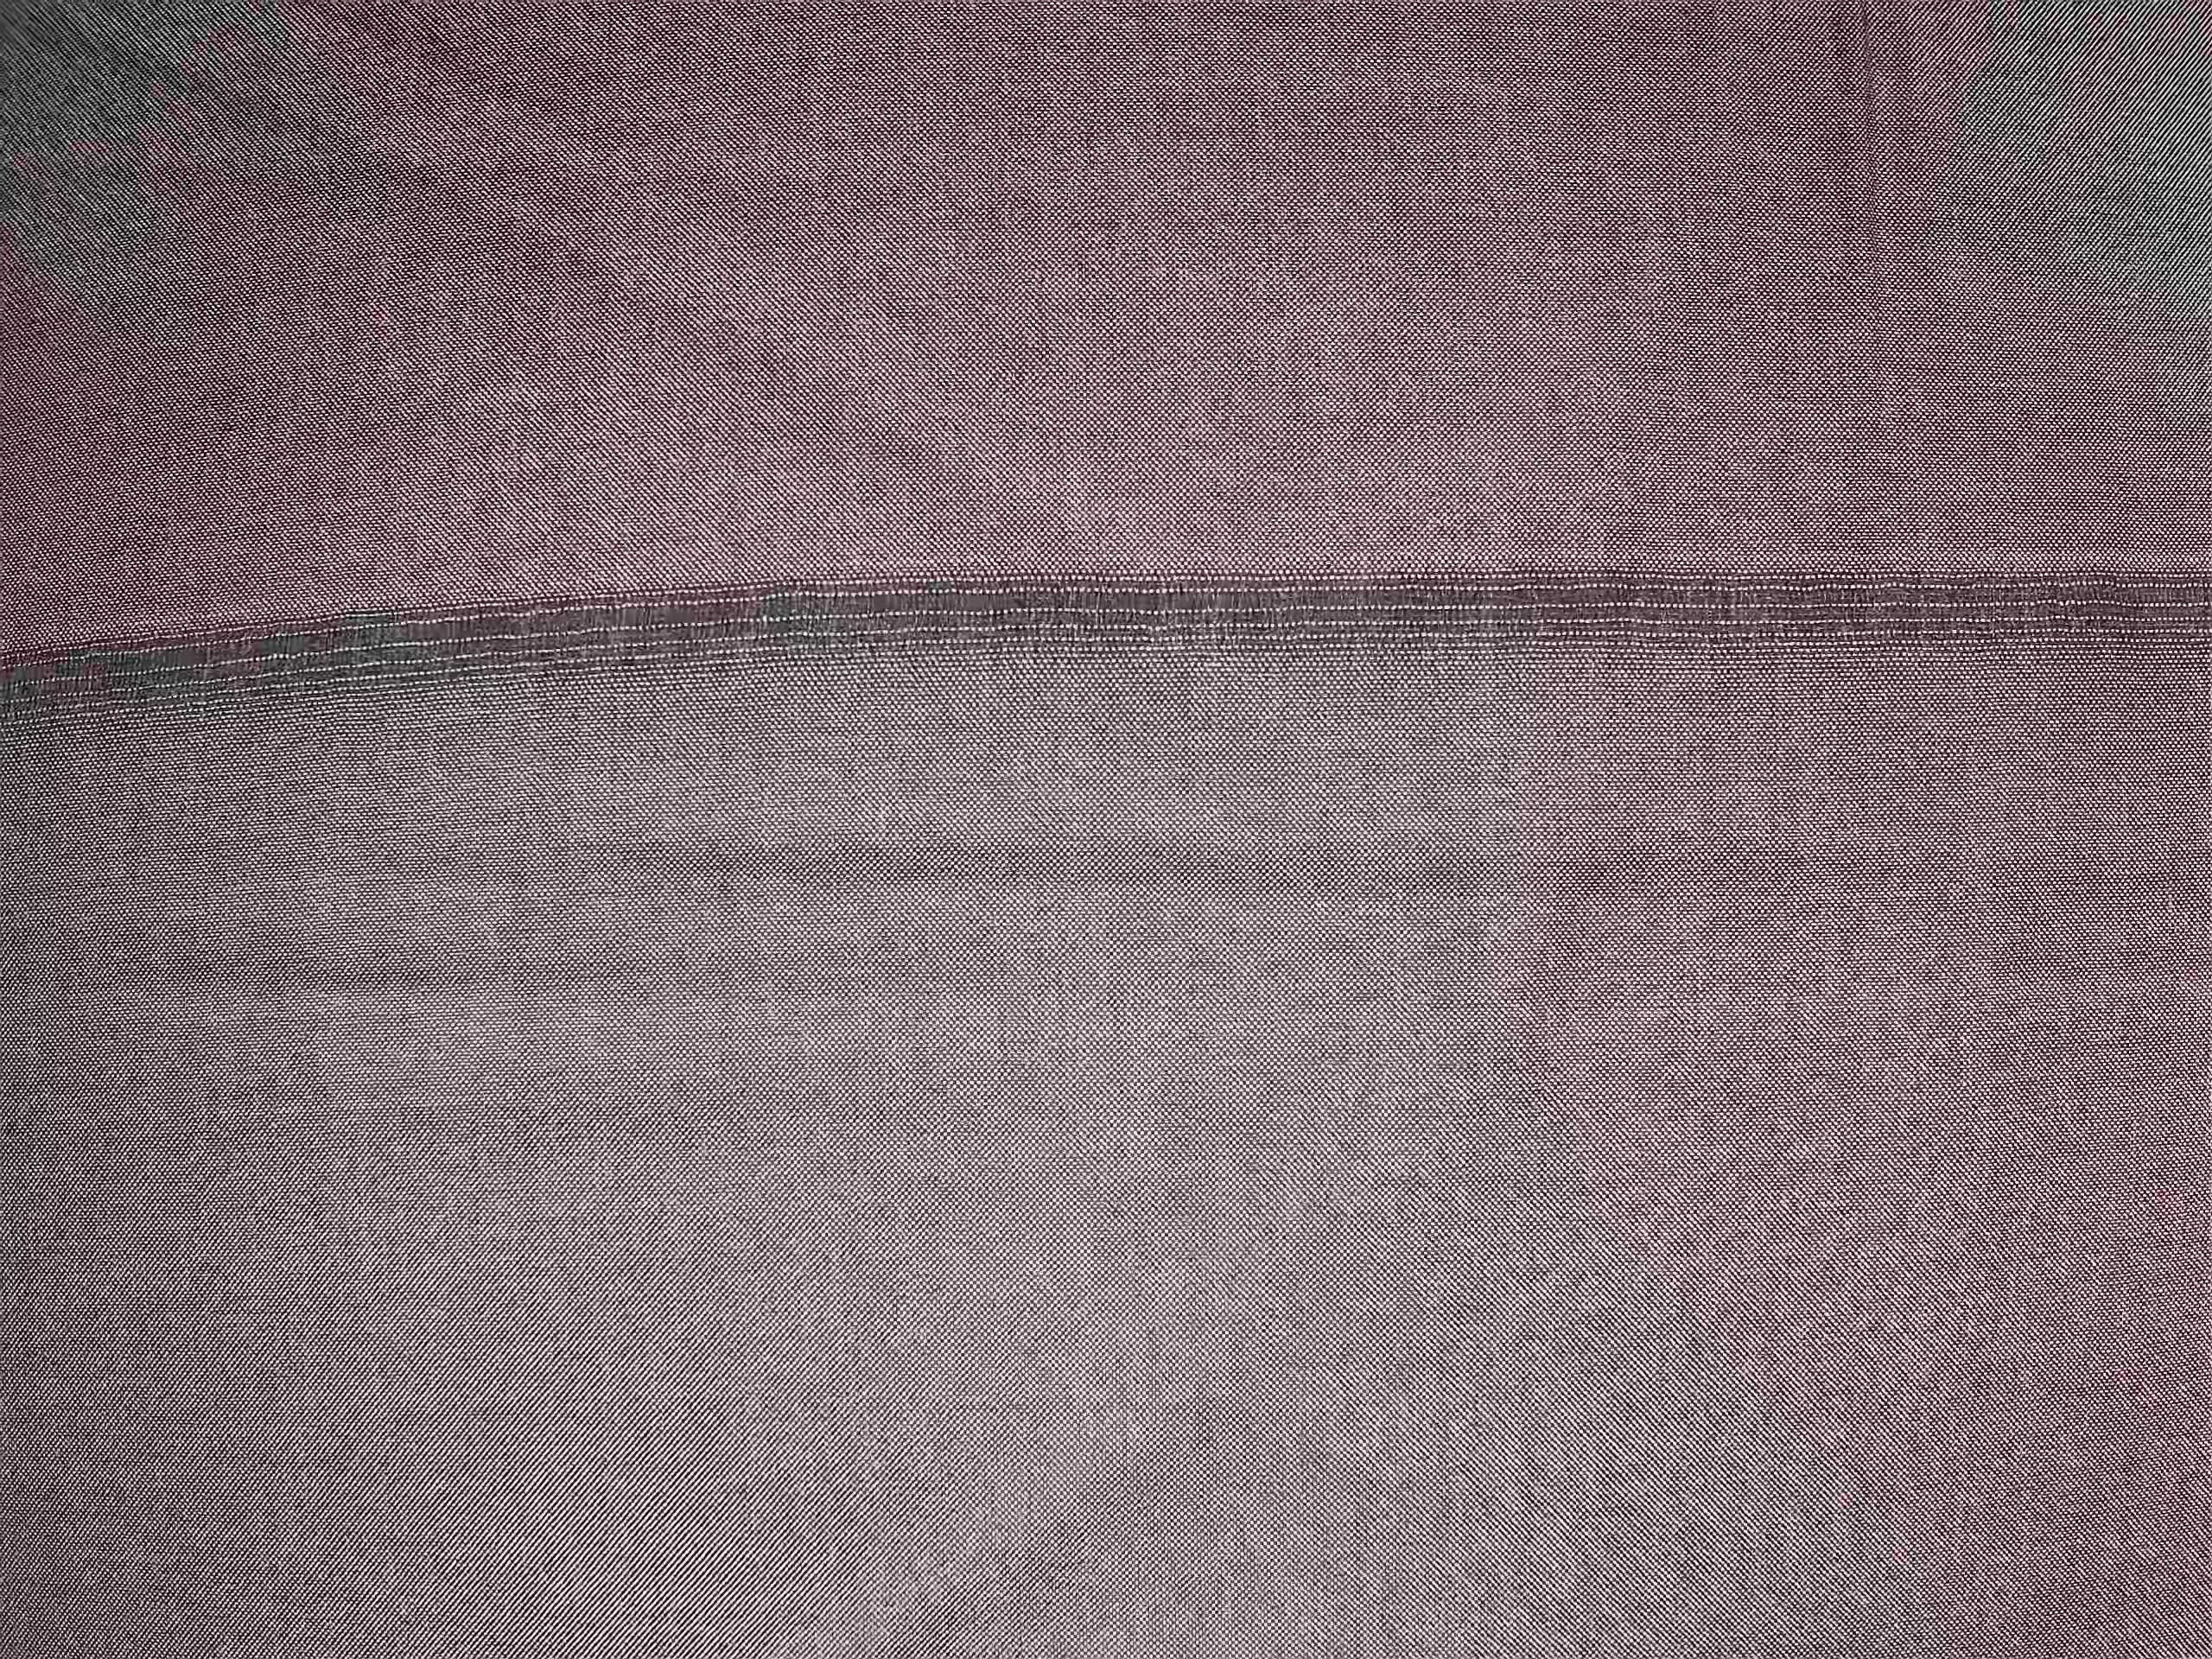thin-spinning: (19, 544, 2205, 742)
